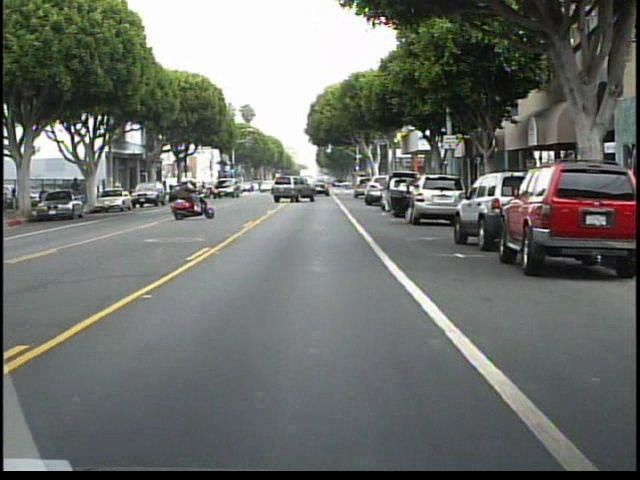person: (397, 171, 418, 229), (166, 176, 194, 216), (69, 174, 86, 211)
